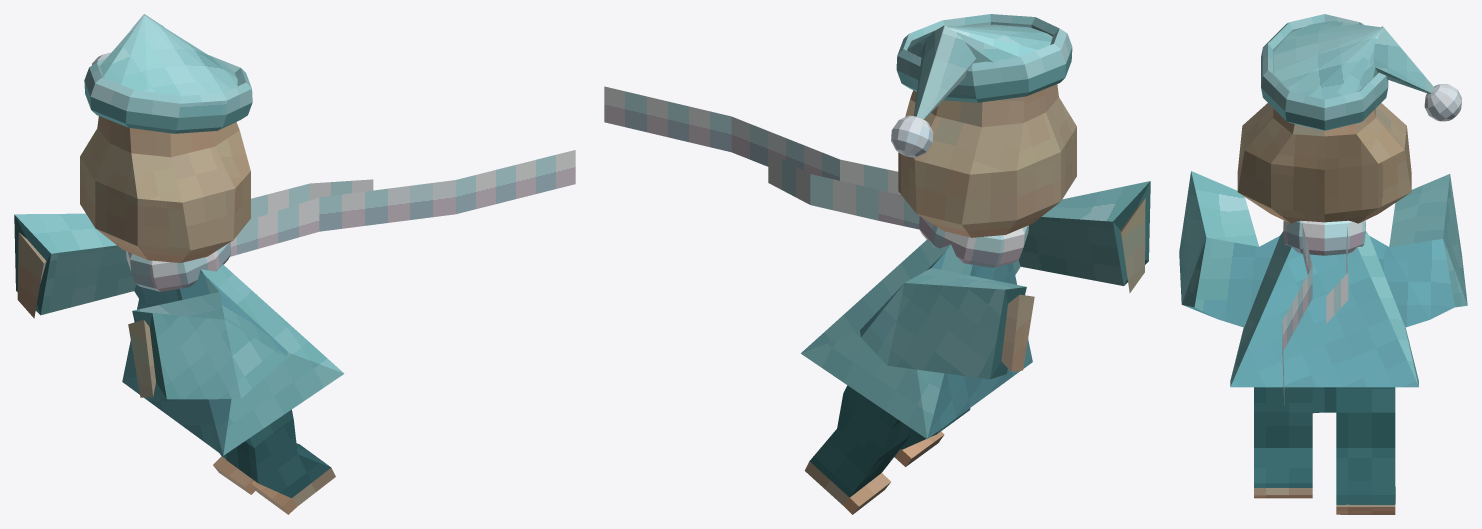
The model's file is Sandman1 (1).fbx.
The picture shows the model from 3 angles, left to right: view 1: azimuth 30°, elevation 25°; view 2: azimuth 150°, elevation 25°; view 3: azimuth 270°, elevation 25°; orthographic projection. The views are drawn at different scales.
Parts seen in each view (by area): view 1: pyramid, sphere, cube_1, torus_1, cone, cube, torus, cube_2; view 2: pyramid, sphere, cube_1, cube, torus_1, cube_2, cone_1, cone, torus, sphere_1; view 3: pyramid, sphere, cube, cone, torus_1, torus, cone_1, cube_1, sphere_1, cube_2.
Boxes of the visible parts, x1,y1,x2,y2 form: pyramid: (14,213,344,455); sphere: (80,116,250,262); cube_1: (230,150,575,256); torus_1: (84,55,252,133); cone: (99,15,237,96); cube: (213,409,335,514); torus: (126,242,231,291); cube_2: (250,179,373,219); pyramid: (801,181,1150,439); sphere: (898,84,1076,237); cube_1: (604,86,902,196); cube: (804,385,970,514); torus_1: (896,14,1072,102); cube_2: (768,152,919,229); cone_1: (914,25,976,119); cone: (907,24,1052,62); torus: (919,216,1028,267); sphere_1: (891,115,933,157); pyramid: (1179,171,1467,387); sphere: (1237,103,1411,223); cube: (1254,387,1395,514); cone: (1273,21,1383,99); torus_1: (1261,14,1388,130); torus: (1283,220,1365,255); cone_1: (1373,26,1434,93); cube_1: (1282,223,1312,405); sphere_1: (1424,84,1461,121); cube_2: (1326,227,1348,323).
Bounding box in the file's own units: 136 × 132 × 76.44.
Materials: 1 (1 with a texture image).
